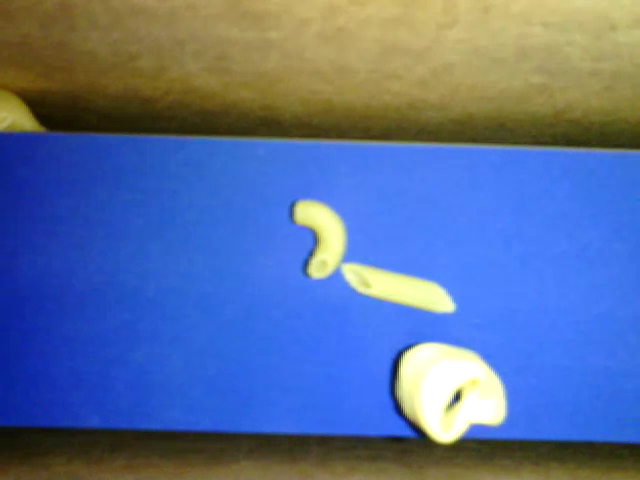elbow: (292, 197, 346, 277), (1, 111, 13, 132)
penne: (337, 262, 456, 315)
shell: (1, 85, 52, 130)
tortellini: (396, 337, 507, 445)
